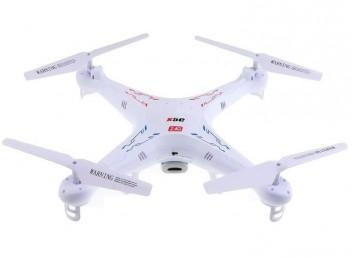drone: (14, 38, 351, 223)
